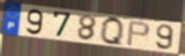7: (52, 10, 73, 40)
8: (77, 15, 97, 42)
9: (155, 24, 175, 51), (25, 9, 44, 36)
P: (125, 20, 151, 47)
Q: (99, 16, 124, 48)
